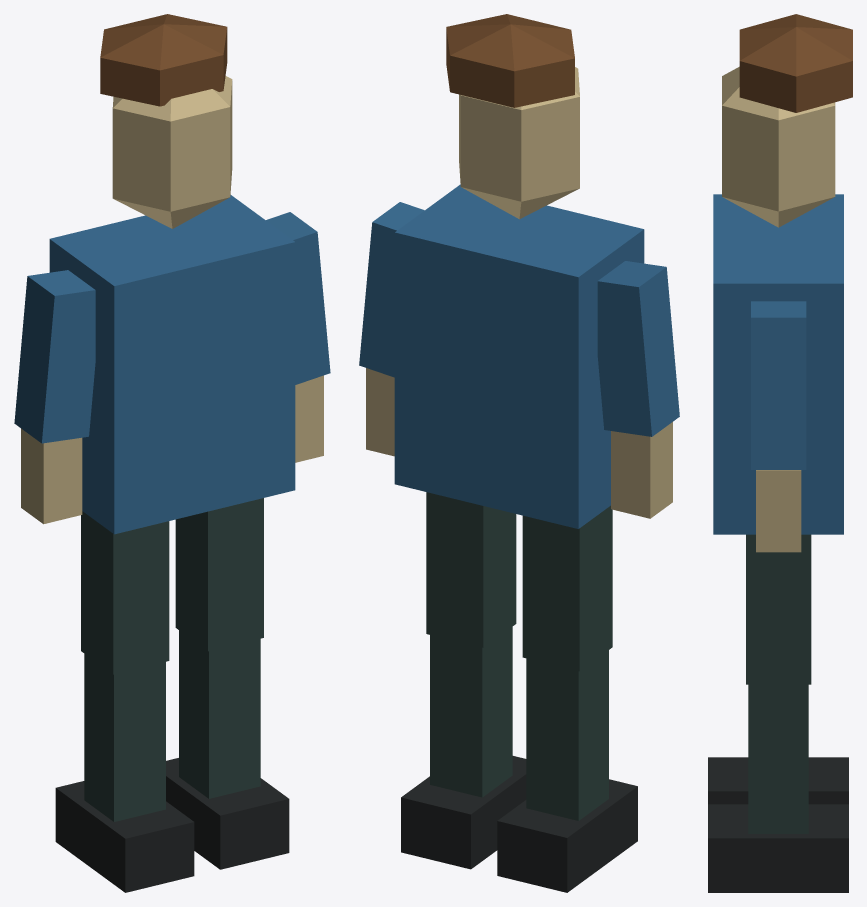
Rendered from TownWalker0.obj.
3 views of the same model, side by side, from view 1: azimuth 30°, elevation 25°; view 2: azimuth 150°, elevation 25°; view 3: azimuth 270°, elevation 25° (orthographic).
Parts seen in each view (by area): view 1: TownWalker0; view 2: TownWalker0; view 3: TownWalker0.
Boxes of the visible parts, bbox=[...] form: TownWalker0: bbox=[14, 14, 330, 892]; TownWalker0: bbox=[359, 14, 679, 892]; TownWalker0: bbox=[708, 14, 852, 892].
Size of the model in its own units: 0.6695 by 1.81 by 0.2875.
1 material, 1 textured.
